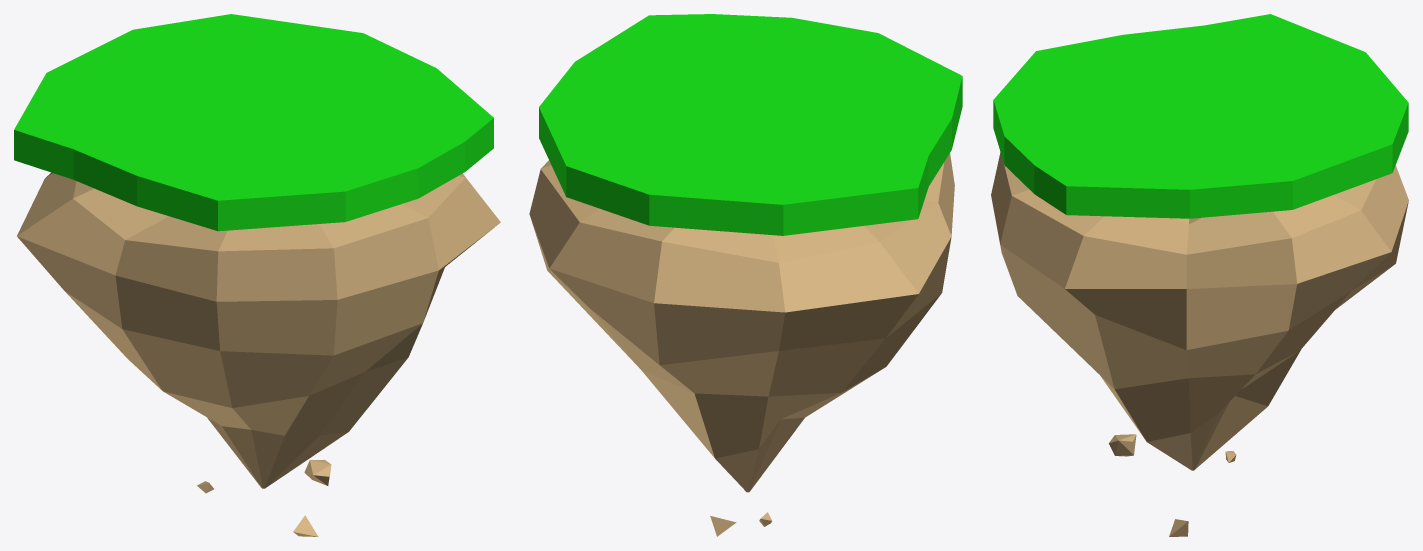
Rendered from low-poly-mill_changed.fbx.
3 views of the same model, side by side, from view 1: azimuth 30°, elevation 25°; view 2: azimuth 150°, elevation 25°; view 3: azimuth 270°, elevation 25° (orthographic). The views are drawn at different scales.
Visible parts, largest first — view 1: Island, Green_platform; view 2: Green_platform, Island; view 3: Island, Green_platform.
Part boxes in pixels (box(x1,y1,x2,y2)): Island: box(17, 172, 500, 536); Green_platform: box(14, 14, 493, 231); Green_platform: box(539, 14, 962, 235); Island: box(529, 153, 954, 536); Island: box(991, 152, 1408, 536); Green_platform: box(993, 14, 1408, 218).
Bounding box in the file's own units: 105 × 113 × 104.
